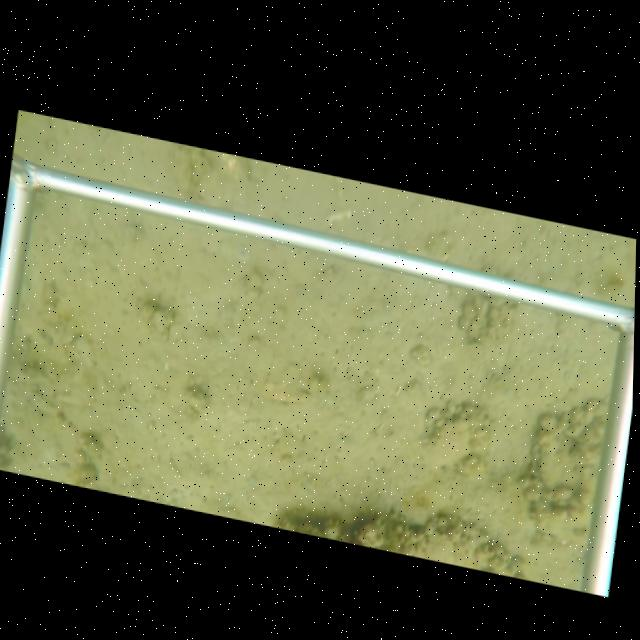Oyster-Open: (529, 440, 566, 492)
